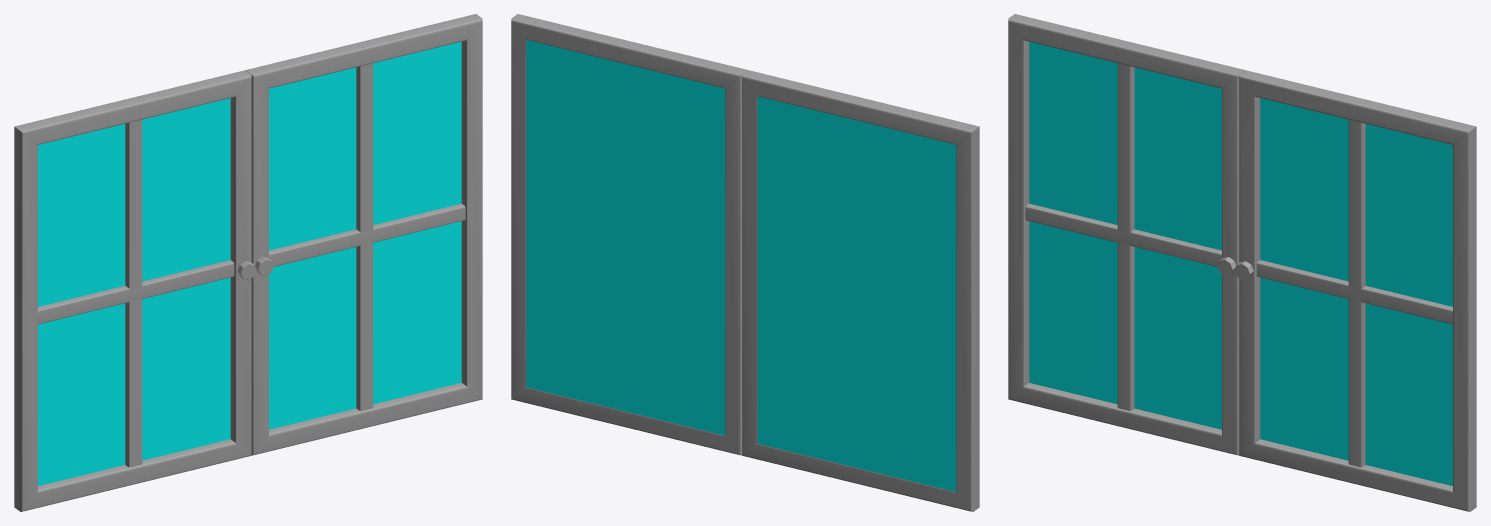
The model's file is Window.fbx.
3 renders of one model, left to right at view 1: azimuth 30°, elevation 25°; view 2: azimuth 150°, elevation 25°; view 3: azimuth 330°, elevation 25°, orthographic.
Parts seen in each view (by area): view 1: Window, Window1; view 2: Window, Window1; view 3: Window1, Window.
Boxes of the visible parts, <box> form: Window: <box>14,70,251,511</box>; Window1: <box>245,14,482,455</box>; Window: <box>742,70,979,511</box>; Window1: <box>511,14,748,455</box>; Window1: <box>1239,70,1476,511</box>; Window: <box>1008,14,1245,455</box>.
Bounding box in the file's own units: 53.34 × 42.01 × 2.69.
